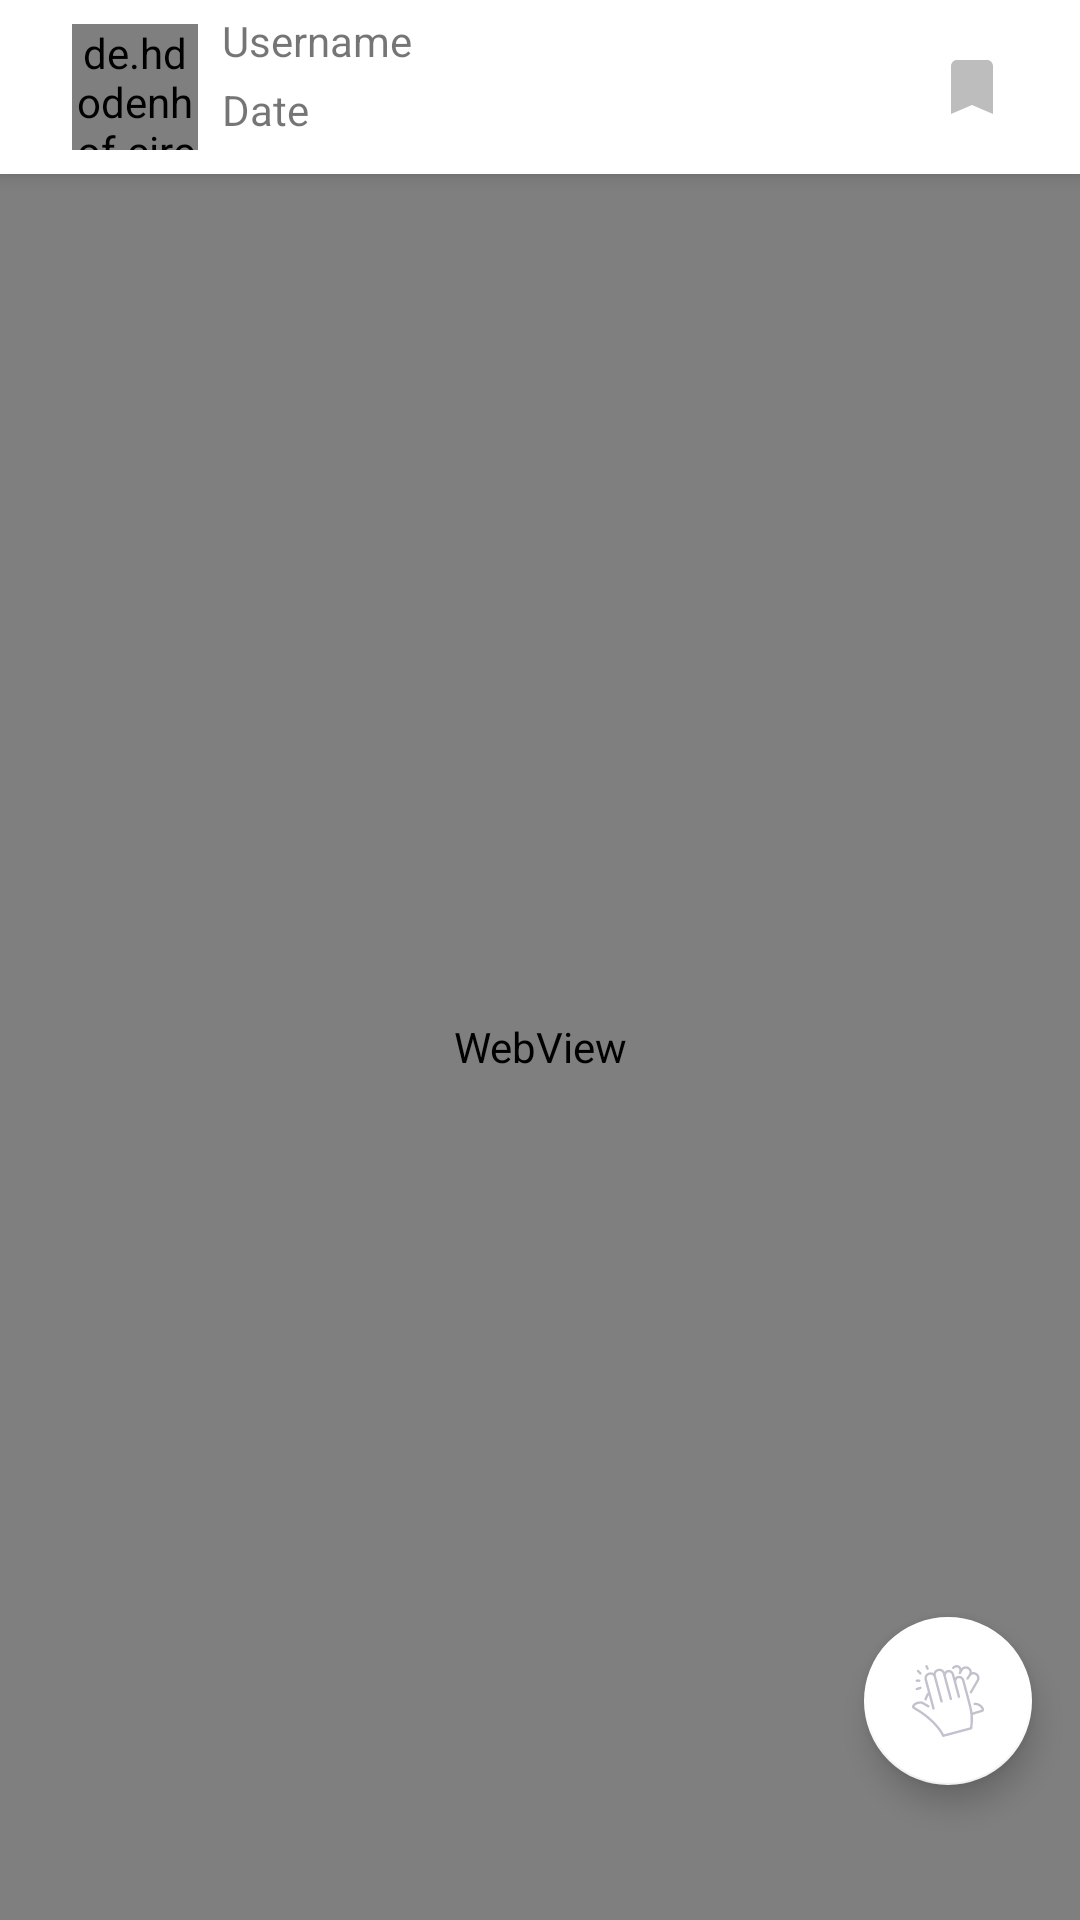

Locate icon controls on the screen. Image size 1080px×1920px, boxes as (x1, y1, x2, y2).
bookmark: (951, 60, 993, 114)
clap none: (864, 1617, 1032, 1785)
